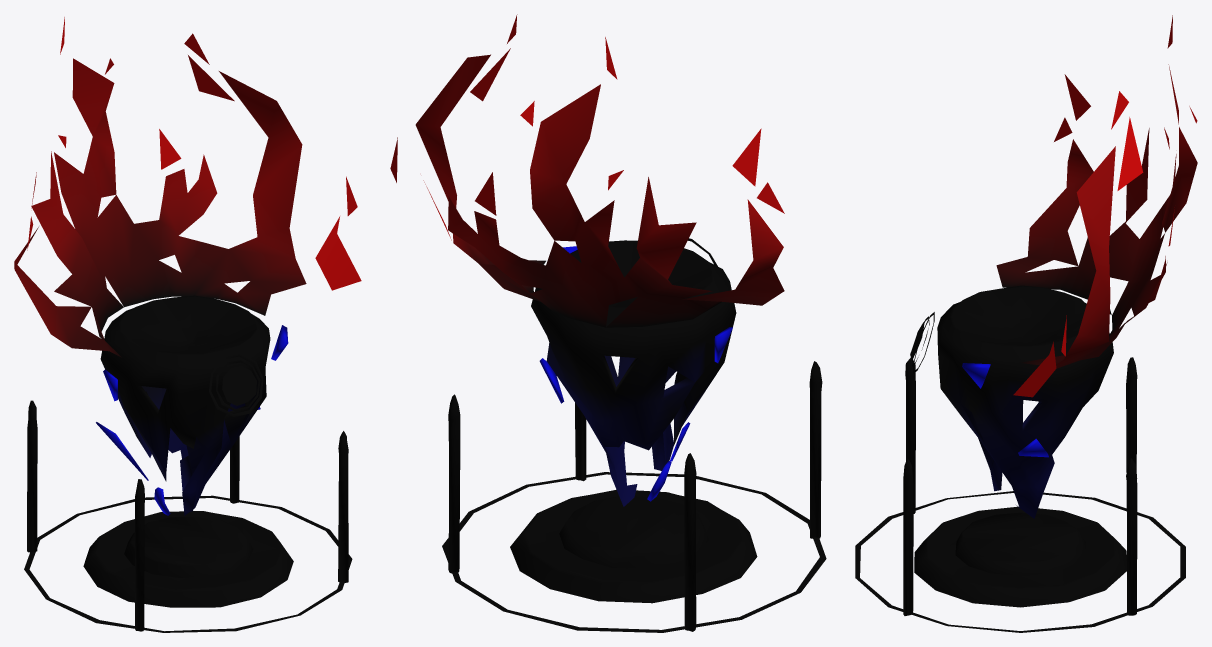
File: workshop_A.fbx
3 views of the same model, side by side, from view 1: azimuth 30°, elevation 25°; view 2: azimuth 150°, elevation 25°; view 3: azimuth 270°, elevation 25° (orthographic). The views are drawn at different scales.
Parts seen in each view (by area): view 1: workShop_A; view 2: workShop_A; view 3: workShop_A.
Part boxes in pixels (bbox=[...]): workShop_A: bbox=[14, 17, 361, 632]; workShop_A: bbox=[390, 14, 826, 632]; workShop_A: bbox=[855, 15, 1197, 632].
Bounding box in the file's own units: 1589 × 2277 × 1346.
